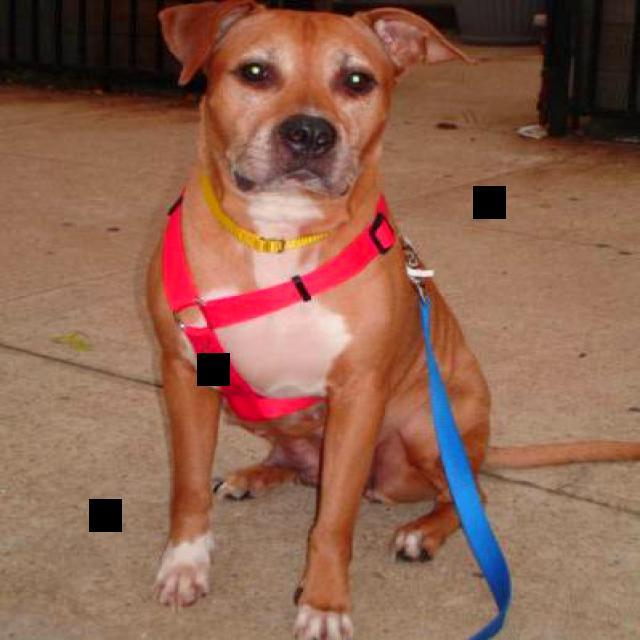adult_dog: (146, 2, 640, 640)
